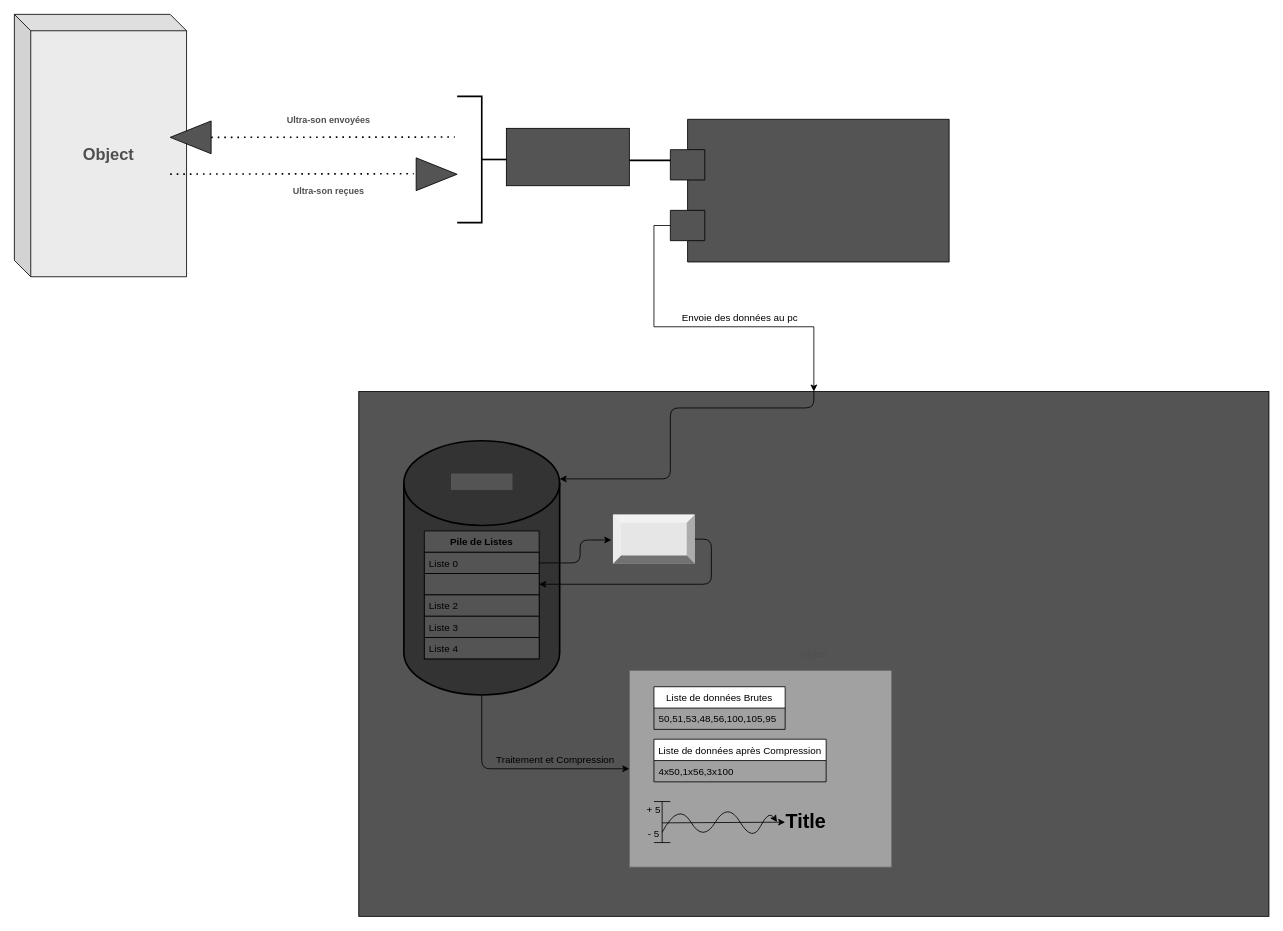
Some shapes in this 1283 by 931 pixel diagram are drawn without their labels. Each missing label, with the centre of its shape:
"Button" belongs at (x=654, y=538).
"Capteur de distance Ultrason V1 SoproLab" belongs at (x=567, y=157).
"Data-Base" belongs at (x=481, y=481).
"Liste 1" belongs at (x=481, y=584).
"Module SoproLab" belongs at (x=809, y=190).
